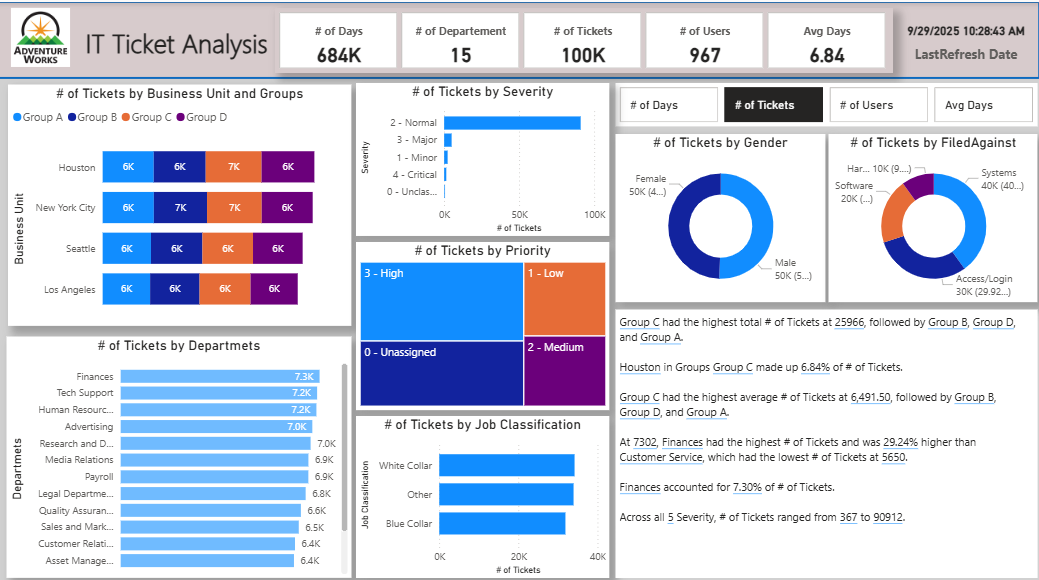

Layout of this report page (visuals, bound fields, positions):
{"tool":"powerbi","page":{"name":"IT Ticket Analysis","canvas":[1280,720],"ordinal":0},"visuals":[{"type":"shape","box":[0,0,1279.4,94.5],"z":0},{"type":"shape","box":[0,0,1279.4,186.2],"z":1000},{"type":"image","box":[0,1.9,102,83.2],"z":2000},{"type":"card","fields":{"Values":["Min(LastRefreshDate.LastRefresh)"]},"box":[1104.3,11.1,167.8,71.9],"z":3000},{"type":"textbox","box":[102,22.7,262.7,56.7],"z":4000},{"type":"cardVisual","fields":{"Data":["All Measures.# of Days","All Measures.# of Departement","All Measures.# of Tickets","All Measures.# of Users","All Measures.Avg Days"]},"box":[339.2,7.4,759.5,79.3],"z":5000},{"type":"barChart","fields":{"Y":["All Measures.# of Tickets"],"Category":["IT-Help-Desk.Business Unit"],"Series":["IT-Help-Desk.Groups"]},"box":[11.1,101.4,422.2,296.8],"z":6000},{"type":"clusteredBarChart","fields":{"Y":["All Measures.# of Tickets"],"Category":["IT-Help-Desk.Departmets"]},"box":[9.2,411.1,424,296.8],"z":7000},{"type":"advancedSlicerVisual","fields":{"Values":["Dynamic Metrics.Dynamic Metrics"]},"box":[757.7,99.5,519.9,53.5],"z":8000},{"type":"clusteredBarChart","fields":{"Y":["All Measures.# of Tickets"],"Category":["IT-Help-Desk.Severity"]},"box":[438.8,99.5,311.6,188],"z":9000},{"type":"treemap","fields":{"Values":["All Measures.# of Tickets"],"Group":["IT-Help-Desk.Priority"]},"box":[438.8,295,311.6,206.5],"z":10000},{"type":"barChart","fields":{"Y":["All Measures.# of Tickets"],"Category":["IT-Help-Desk.Job Classification"]},"box":[438.8,508.8,311.6,199.1],"z":11000},{"type":"donutChart","fields":{"Y":["All Measures.# of Tickets"],"Category":["IT-Help-Desk.Gender"]},"box":[757.7,161.7,258.1,206.5],"z":12000},{"type":"donutChart","fields":{"Y":["All Measures.# of Tickets"],"Category":["IT-Help-Desk.FiledAgainst"]},"box":[1019.5,161.8,258.1,206.5],"z":13000},{"type":"textbox","box":[757.7,377.9,519.9,330],"z":14000}]}

Visuals, with their boxes in screenshot pixels (x1, y1, x2, y2), scaled from the page's 1280x720 canvas onto the 1039x580 screenshot:
shape: bbox=(0, 0, 1038, 76)
shape: bbox=(0, 0, 1038, 150)
image: bbox=(0, 2, 83, 69)
card - Min(LastRefreshDate.LastRefresh): bbox=(896, 9, 1033, 67)
textbox: bbox=(83, 18, 296, 64)
cardVisual - All Measures.# of Days x All Measures.# of Departement: bbox=(275, 6, 892, 70)
barChart - All Measures.# of Tickets x IT-Help-Desk.Business Unit: bbox=(9, 82, 352, 321)
clusteredBarChart - All Measures.# of Tickets x IT-Help-Desk.Departmets: bbox=(7, 331, 352, 570)
advancedSlicerVisual - Dynamic Metrics.Dynamic Metrics: bbox=(615, 80, 1037, 123)
clusteredBarChart - All Measures.# of Tickets x IT-Help-Desk.Severity: bbox=(356, 80, 609, 232)
treemap - All Measures.# of Tickets x IT-Help-Desk.Priority: bbox=(356, 238, 609, 404)
barChart - All Measures.# of Tickets x IT-Help-Desk.Job Classification: bbox=(356, 410, 609, 570)
donutChart - All Measures.# of Tickets x IT-Help-Desk.Gender: bbox=(615, 130, 825, 297)
donutChart - All Measures.# of Tickets x IT-Help-Desk.FiledAgainst: bbox=(828, 130, 1037, 297)
textbox: bbox=(615, 304, 1037, 570)
